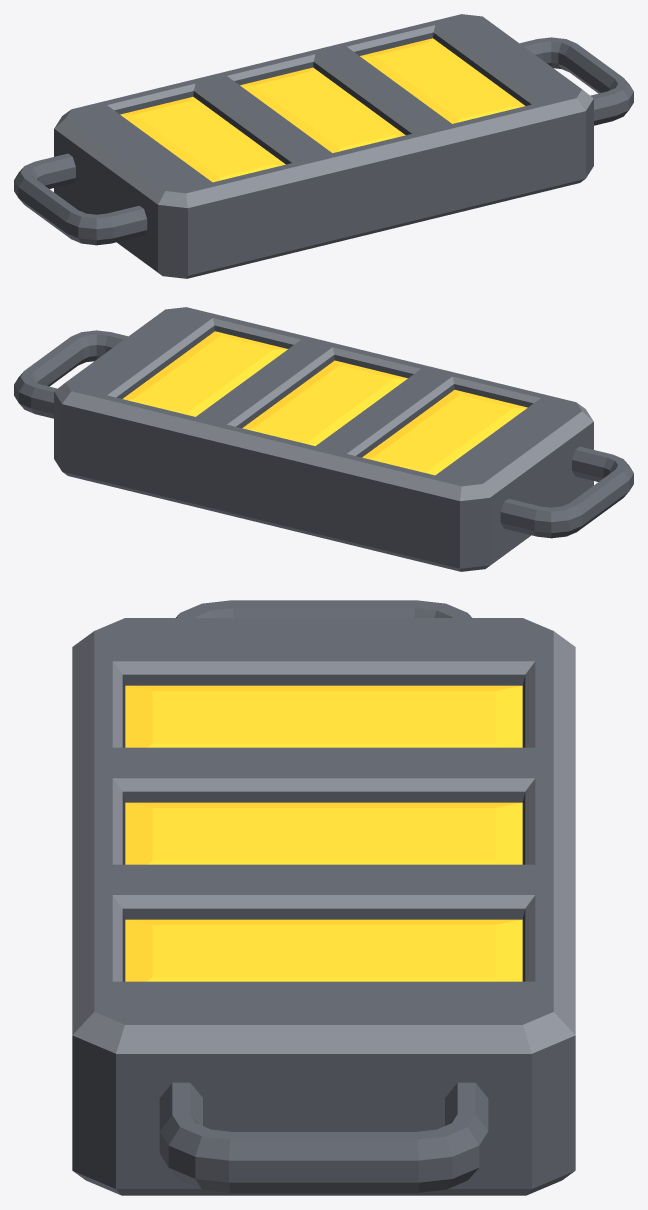
Rendered from ingot-mould-413a2c.glb.
3 views of the same model, one above another, from view 1: azimuth 30°, elevation 25°; view 2: azimuth 150°, elevation 25°; view 3: azimuth 270°, elevation 25° (orthographic). The views are drawn at different scales.
Parts seen in each view (by area): view 1: mould-body, molten; view 2: mould-body, molten; view 3: mould-body, molten.
Boxes of the visible parts, box(x1,y1,x2,y2) form: mould-body: box(14, 14, 633, 278); molten: box(120, 38, 524, 182); mould-body: box(14, 307, 633, 571); molten: box(123, 331, 527, 475); mould-body: box(72, 600, 575, 1195); molten: box(125, 685, 522, 981).
Bounding box in the file's own units: 0.7759 × 0.11 × 0.3.
